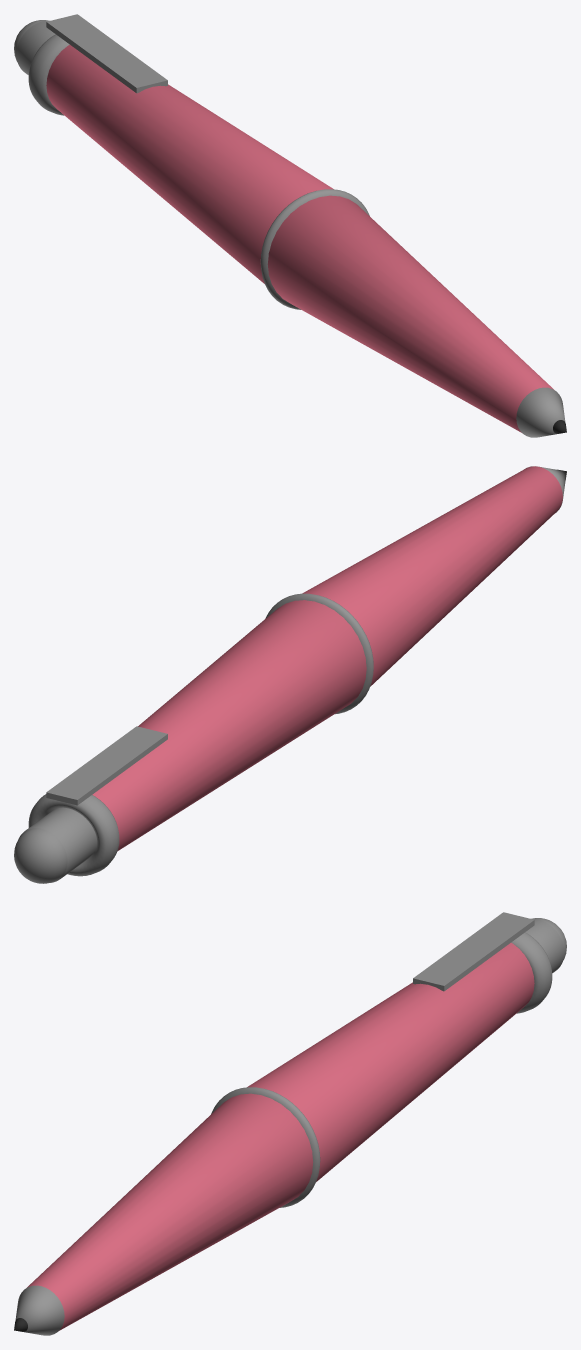
Rendered from pen.fbx.
The picture shows the model from 3 angles, top to bottom: view 1: azimuth 30°, elevation 25°; view 2: azimuth 150°, elevation 25°; view 3: azimuth 330°, elevation 25°; orthographic projection.
Visible parts, largest first — view 1: Cylinder.001; view 2: Cylinder.001; view 3: Cylinder.001.
Boxes of the visible parts, <box> form: Cylinder.001: <box>14,14,566,437</box>; Cylinder.001: <box>14,466,566,883</box>; Cylinder.001: <box>14,912,566,1335</box>.
Bounding box in the file's own units: 63.45 × 63.45 × 525.
